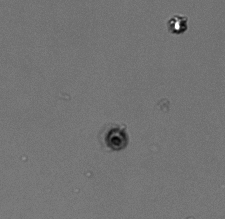Dead Cell: (105, 128, 128, 151)
Living Cell: (169, 14, 187, 34)
